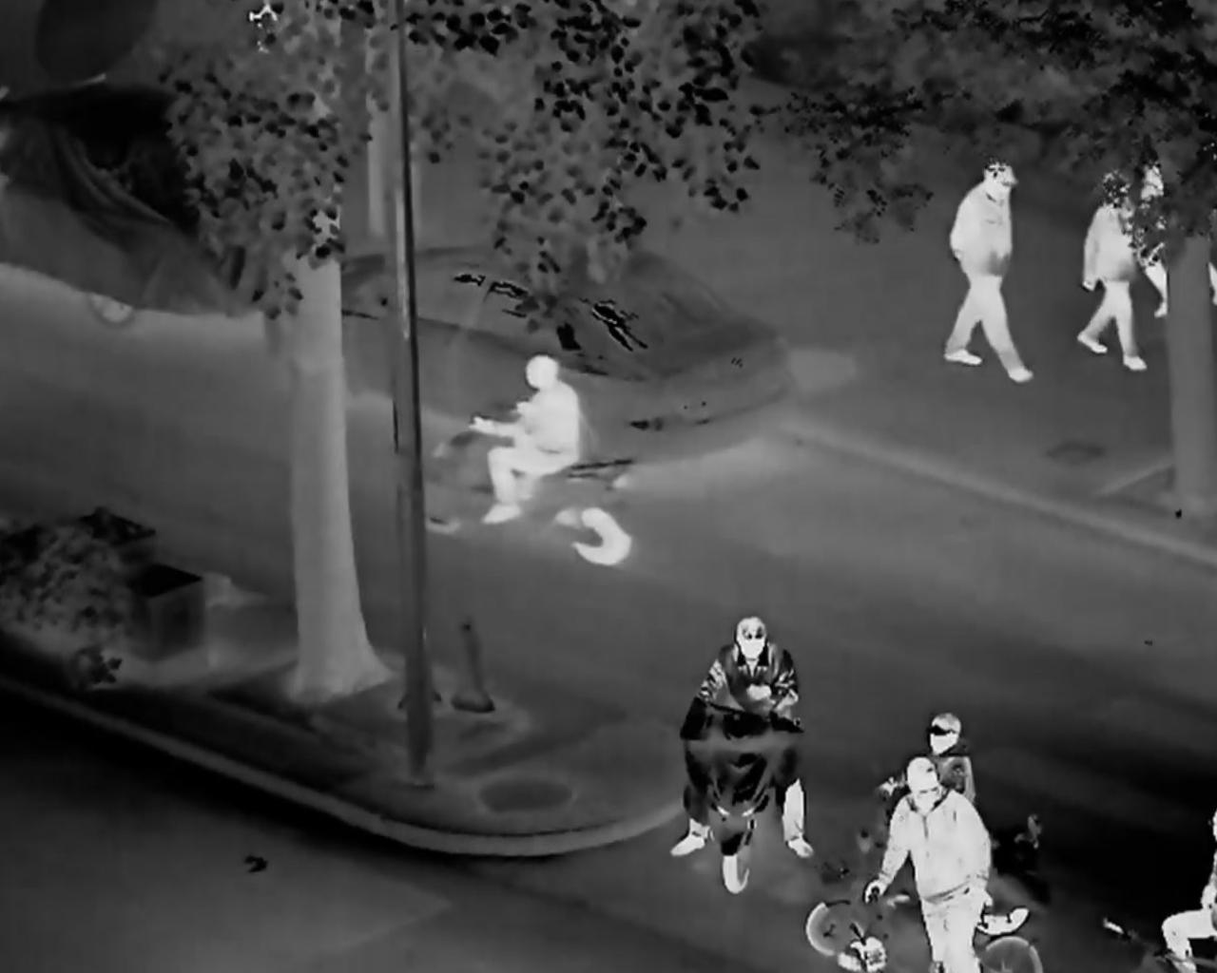person: (675, 605, 823, 868), (866, 767, 1000, 973), (459, 345, 616, 520), (940, 149, 1033, 394), (1067, 157, 1150, 372), (861, 706, 994, 833)
